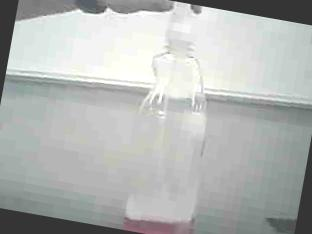hazard: (113, 0, 236, 234)
